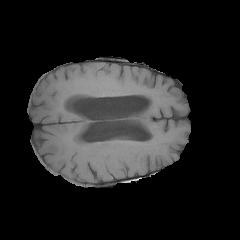glioma: (60, 77, 157, 105)
